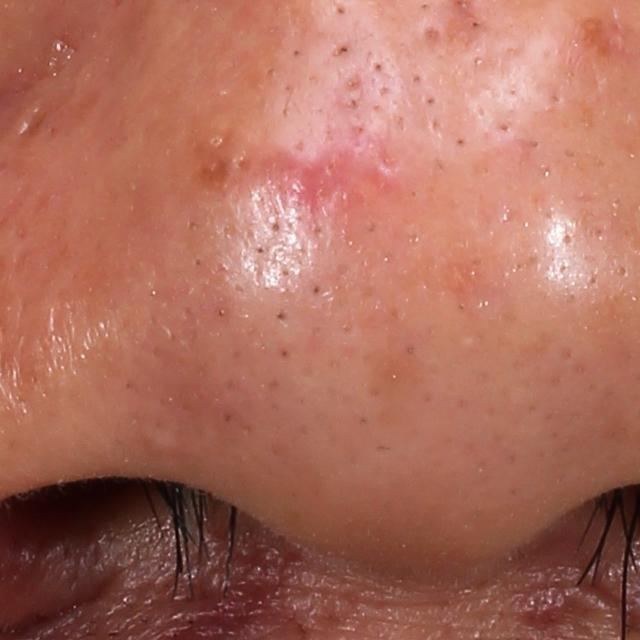atrophic_scar: (17, 105, 51, 138)
comedo: (329, 38, 354, 62), (371, 62, 383, 73)
